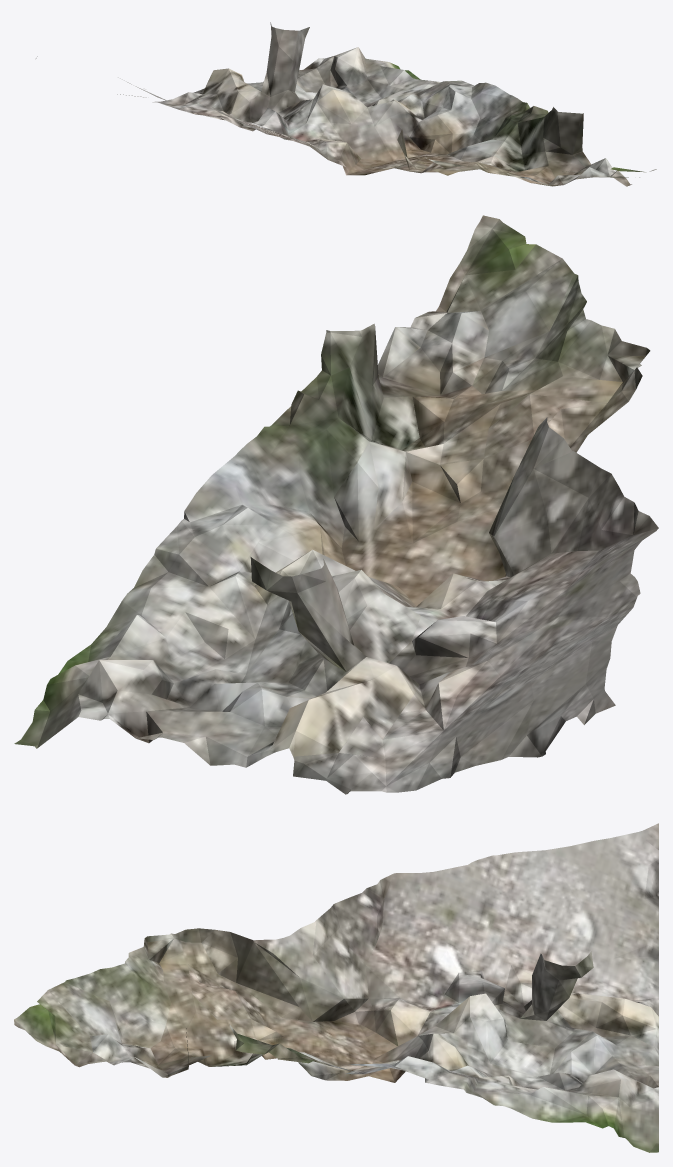
The picture shows the model from 3 angles, top to bottom: view 1: azimuth 30°, elevation 25°; view 2: azimuth 150°, elevation 25°; view 3: azimuth 270°, elevation 25°; orthographic projection. The views are drawn at different scales.
Bounding box in the file's own units: 4.19 × 1.24 × 5.65.
Materials: 2 (2 with a texture image).
